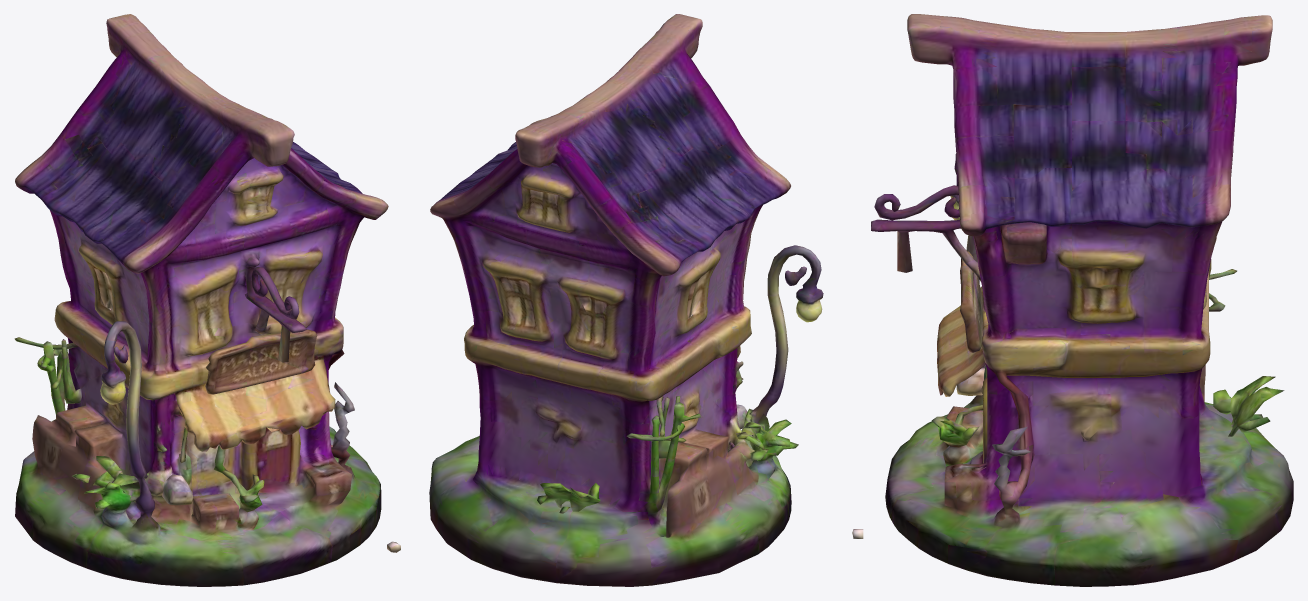
The model's file is massage_saloon.glb.
The picture shows the model from 3 angles, left to right: view 1: azimuth 30°, elevation 25°; view 2: azimuth 150°, elevation 25°; view 3: azimuth 270°, elevation 25°; orthographic projection. The views are drawn at different scales.
Parts seen in each view (by area): view 1: Meshy_Mesh_0.003; view 2: Meshy_Mesh_0.003; view 3: Meshy_Mesh_0.003.
Part boxes in pixels (x1,y1,x2,y2): Meshy_Mesh_0.003: (14,14,400,586); Meshy_Mesh_0.003: (429,14,823,586); Meshy_Mesh_0.003: (852,14,1293,586).
Bounding box in the file's own units: 1.43 × 1.91 × 1.57.
Materials: 1 (1 with a texture image).
